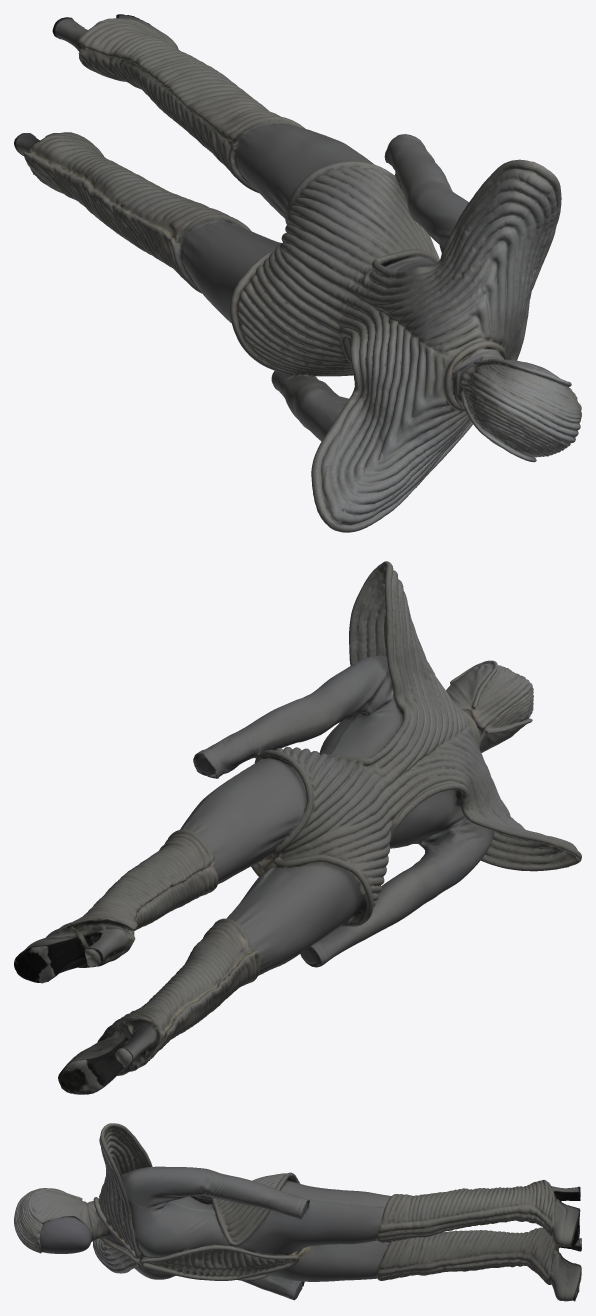
File: preview.glb
3 renders of one model, top to bottom at view 1: azimuth 30°, elevation 25°; view 2: azimuth 150°, elevation 25°; view 3: azimuth 270°, elevation 25°, orthographic. The views are drawn at different scales.
Size of the model in its own units: 0.5482 by 0.6302 by 1.66.
1 material, 1 textured.
